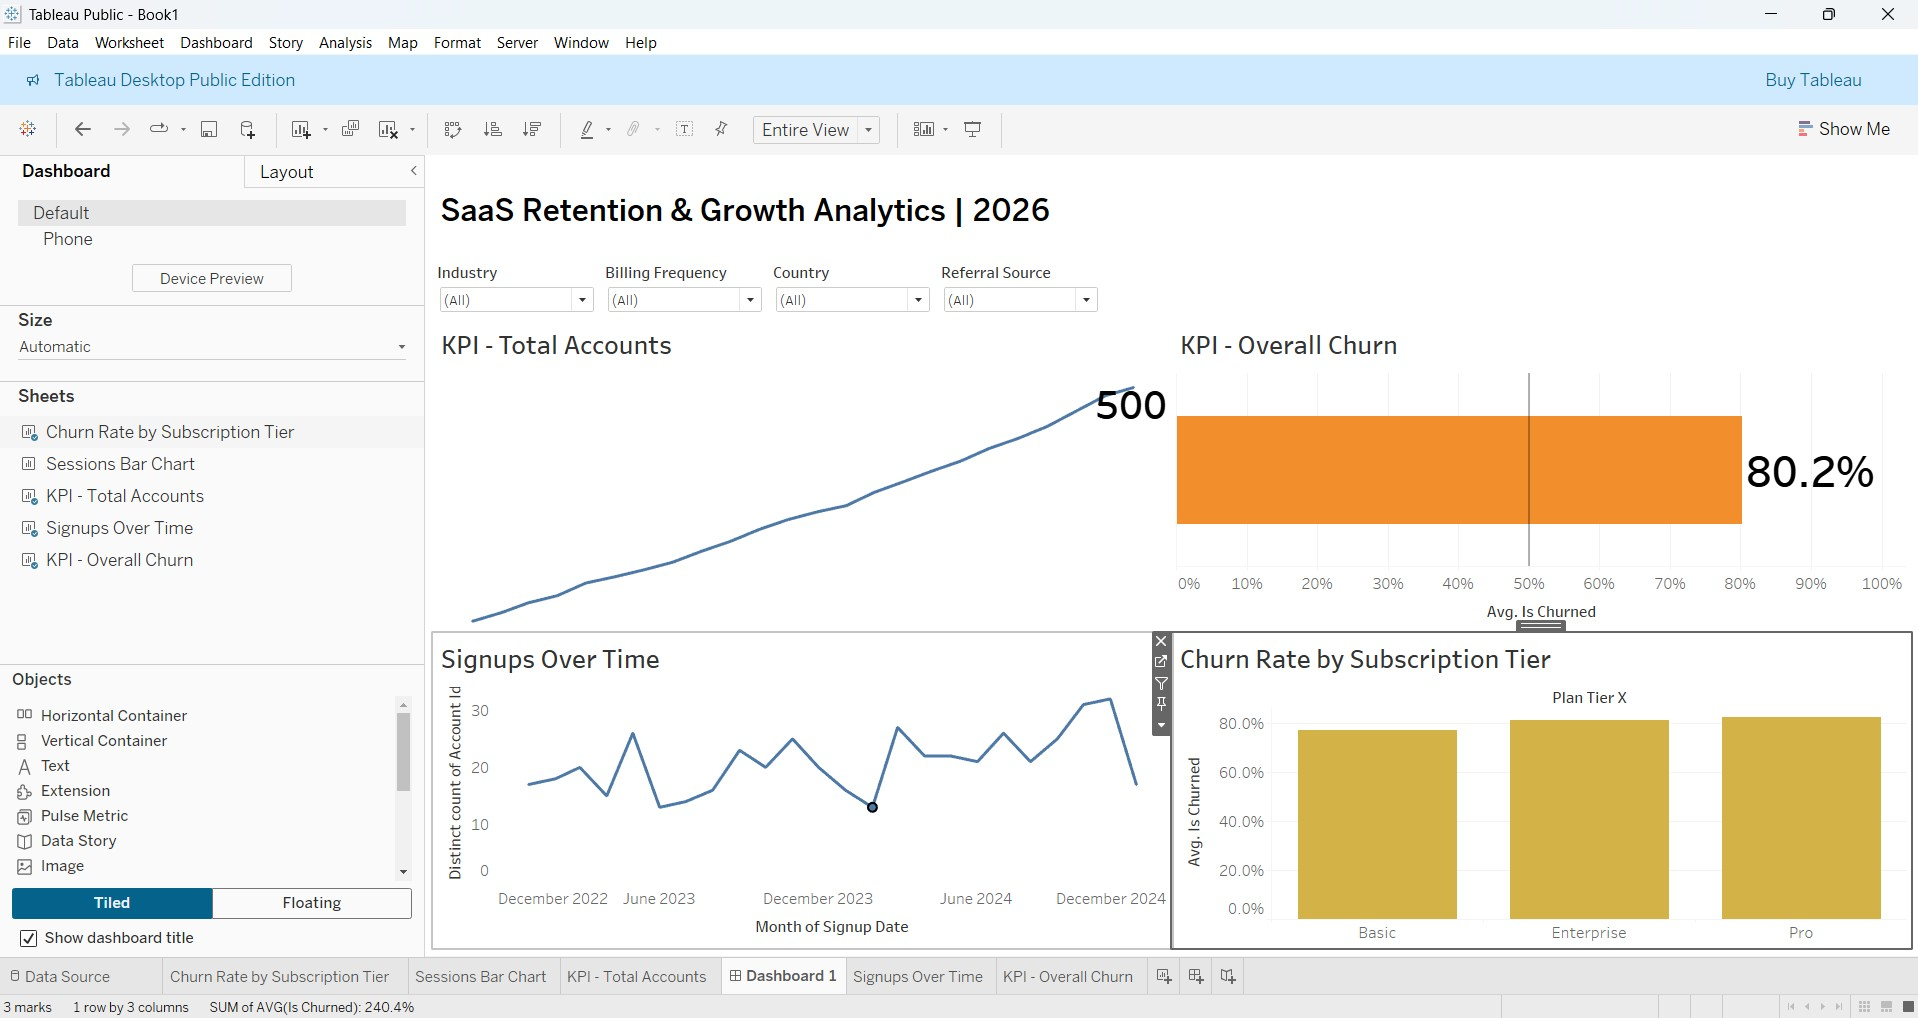

This screenshot's page, from the dashboard's own definition file:
{"tool":"tableau","page":{"name":"Dashboard 1","canvas":[1000,1000],"units":"permille","ordinal":0},"visuals":[{"type":"title","box":[5.4,10,989.3,118.6]},{"type":"filter","title":"Churn Rate by Subscription Tier","param":"[federated.1nzype00qlpwi30zqjyn0139owcl].[none:industry:nk]","box":[5.4,128.6,112.5,76.2]},{"type":"filter","title":"Churn Rate by Subscription Tier","param":"[federated.1nzype00qlpwi30zqjyn0139owcl].[none:billing_frequency:nk]","box":[117.8,128.6,112.5,76.2]},{"type":"filter","title":"Churn Rate by Subscription Tier","param":"[federated.1nzype00qlpwi30zqjyn0139owcl].[none:country:nk]","box":[230.2,128.6,112.5,76.2]},{"type":"filter","title":"Churn Rate by Subscription Tier","param":"[federated.1nzype00qlpwi30zqjyn0139owcl].[none:referral_source:nk]","box":[342.7,128.6,112.5,76.2]},{"type":"worksheet","title":"KPI - Total Accounts","mark":"Line","rows":["account_id"],"cols":["signup_date"],"box":[5.4,204.7,494.6,392.6]},{"type":"worksheet","title":"KPI - Overall Churn","mark":"Automatic","cols":["is_churned"],"box":[499.9,204.7,494.7,392.6]},{"type":"worksheet","title":"Signups Over Time","mark":"Automatic","rows":["account_id"],"cols":["signup_date"],"box":[5.4,597.3,494.6,392.7]},{"type":"worksheet","title":"Churn Rate by Subscription Tier","mark":"Automatic","rows":["is_churned"],"cols":["plan_tier_x"],"box":[499.9,597.3,494.7,392.7]}]}

Visuals, with their boxes on the dashboard's canvas, which has no fixed pixel size, in thousandths of its width and height (x1, y1, x2, y2). These are canvas units, not pixel positions in the 1918x1018 screenshot, which may show the page scaled, cropped or inside an application window:
title: 5,10,995,129
"Churn Rate by Subscription Tier" filter: 5,129,118,205
"Churn Rate by Subscription Tier" filter: 118,129,230,205
"Churn Rate by Subscription Tier" filter: 230,129,343,205
"Churn Rate by Subscription Tier" filter: 343,129,455,205
"KPI - Total Accounts" worksheet (Line marks): 5,205,500,597
"KPI - Overall Churn" worksheet: 500,205,995,597
"Signups Over Time" worksheet: 5,597,500,990
"Churn Rate by Subscription Tier" worksheet: 500,597,995,990
